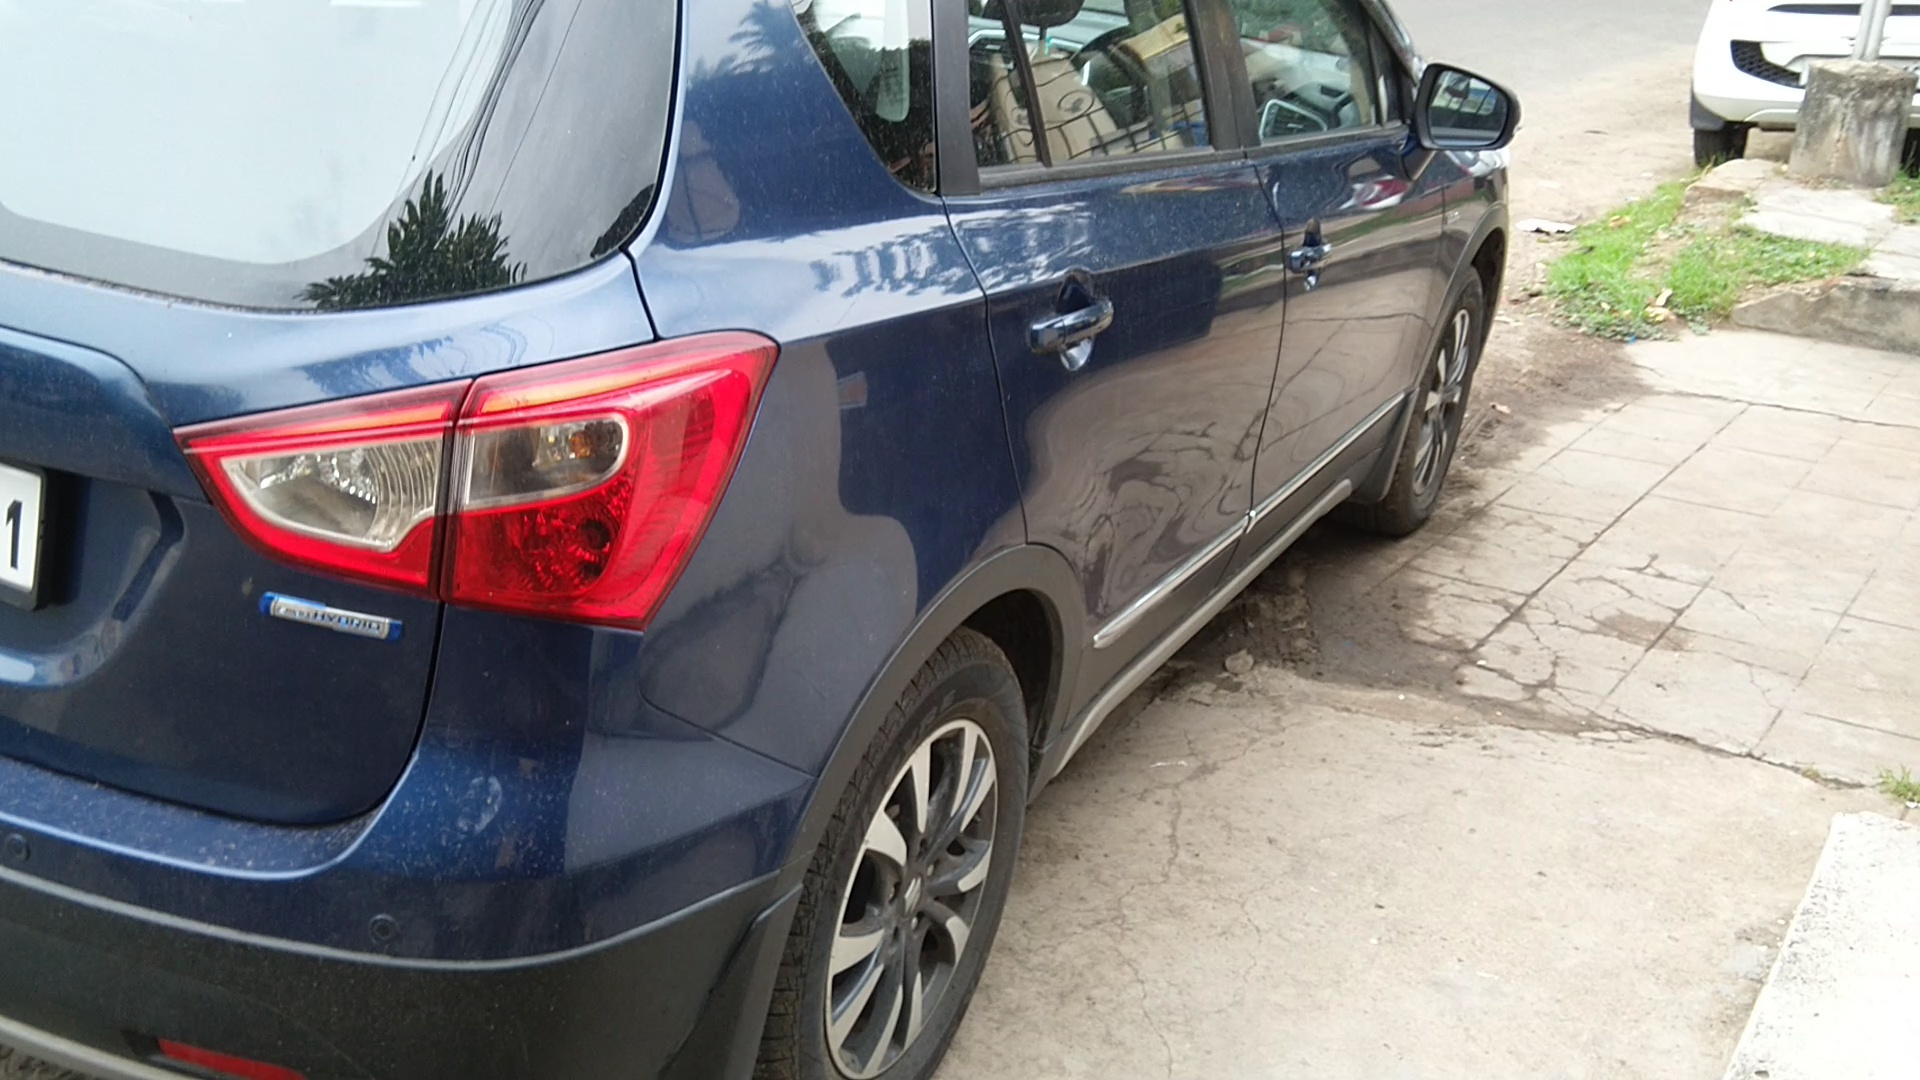alloy_wheel: (781, 647, 1044, 1080), (1385, 265, 1505, 525)
shvs: (251, 570, 419, 675)
